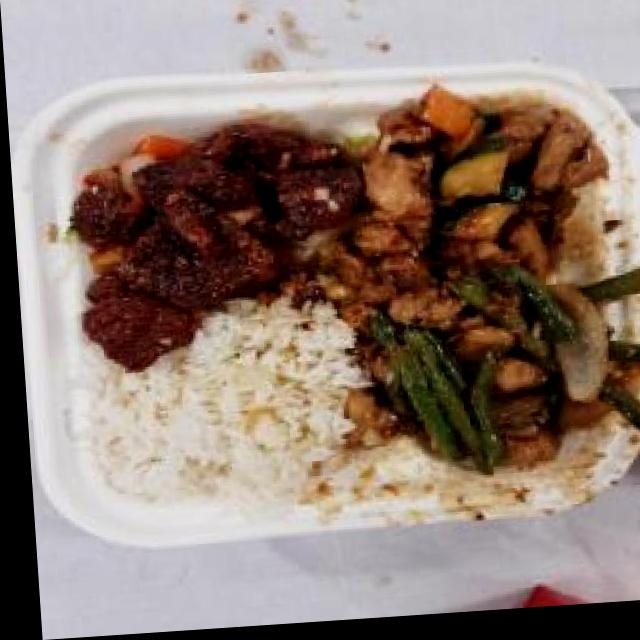Beijing Beef: (62, 108, 348, 380)
Kung Pao Chicken: (326, 84, 607, 313)
String Bean Chicken Breast: (347, 261, 640, 491)
White Steamed Rice: (86, 328, 359, 521)
